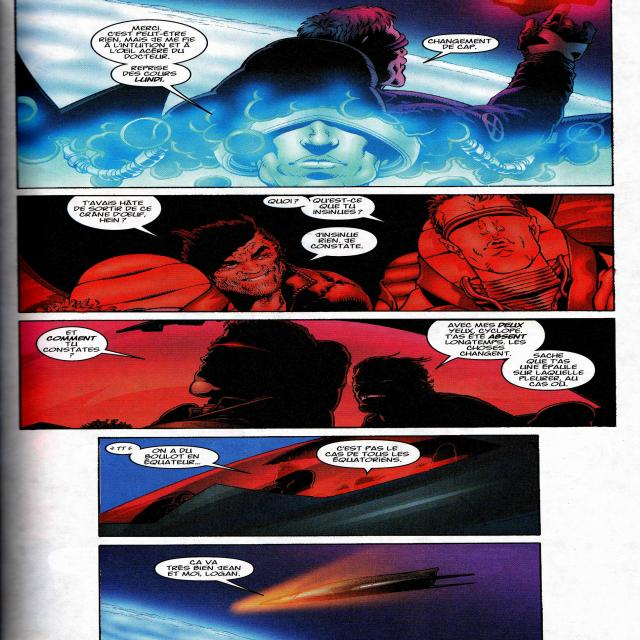comic_panel: (13, 0, 614, 189), (15, 193, 616, 314), (18, 318, 617, 430), (96, 435, 541, 538), (98, 541, 542, 640)
